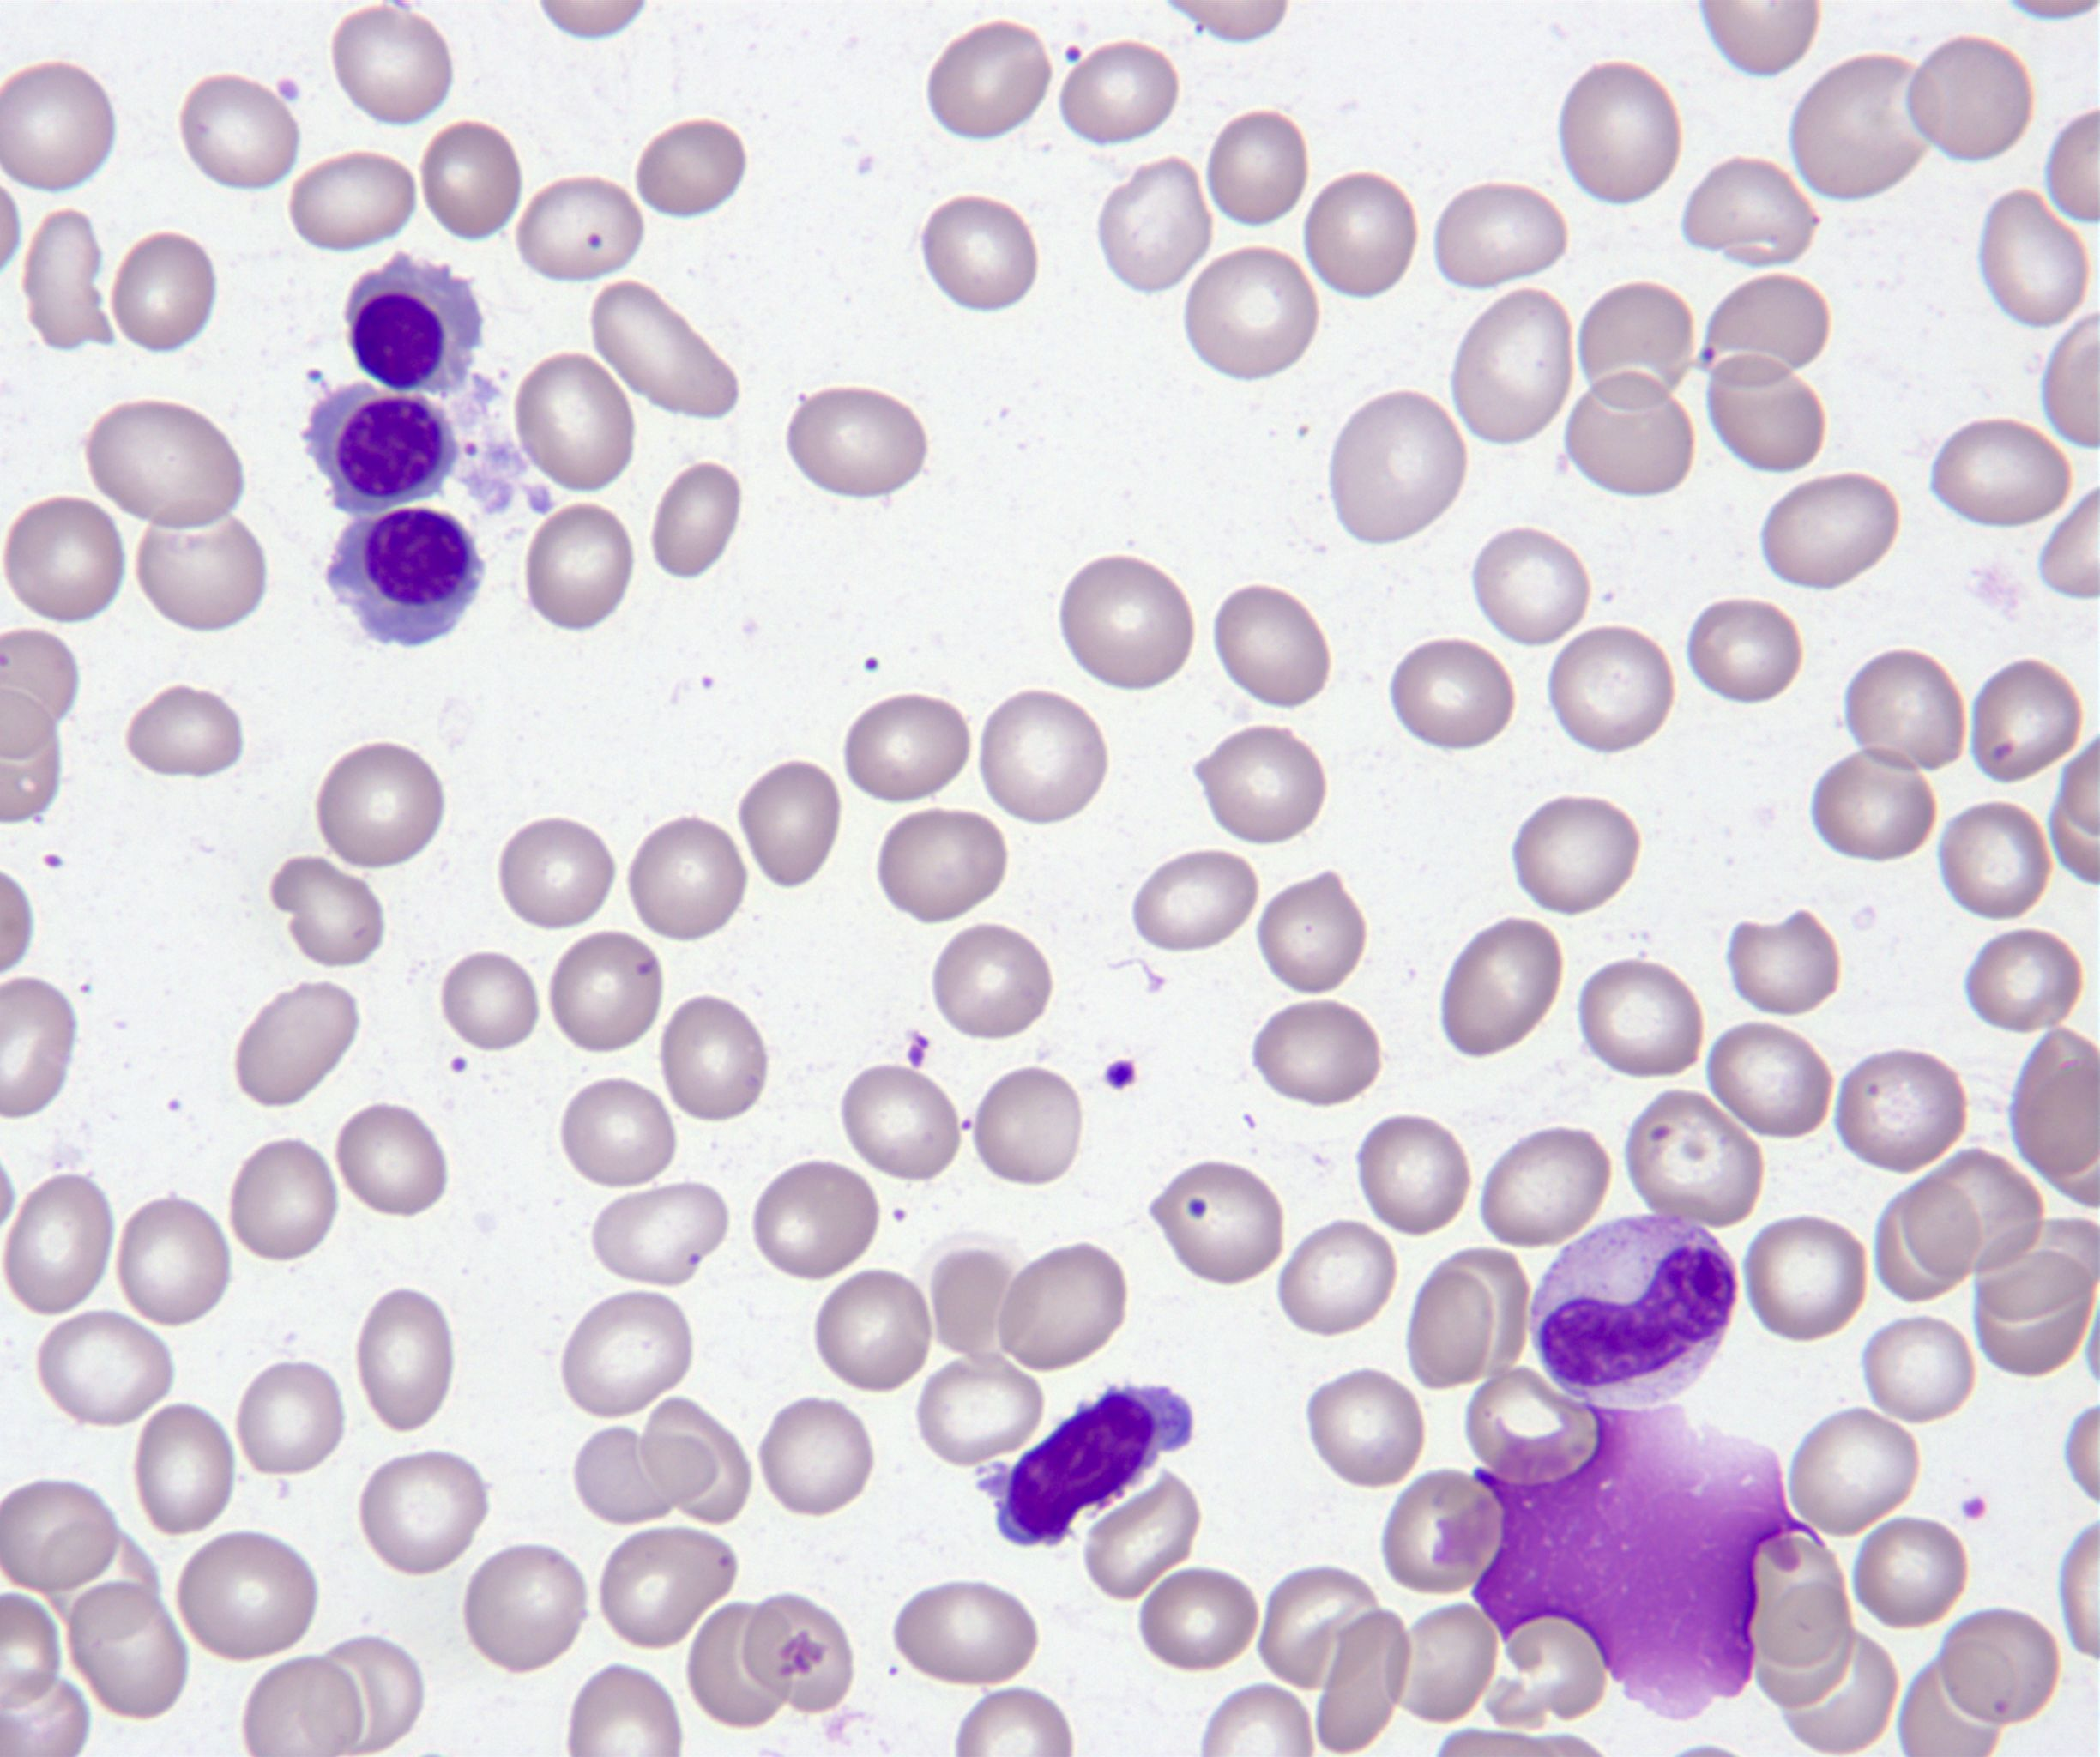24: (328, 506, 485, 646), (344, 251, 483, 396), (300, 384, 455, 513)
32: (978, 1389, 1193, 1548)
4: (1530, 1218, 1735, 1410)
x: (1437, 1401, 1828, 1720)
